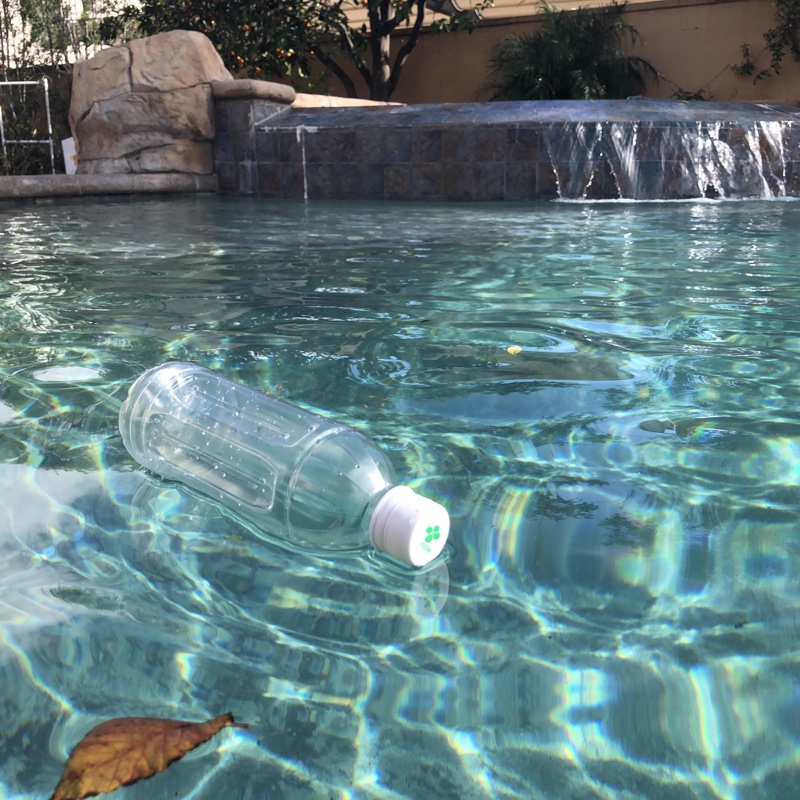Plastic Bottle: (114, 357, 452, 572)
